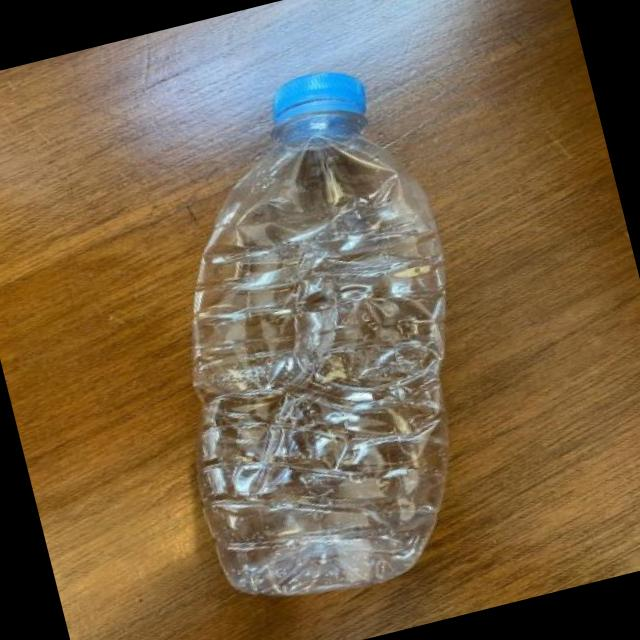BotolPlastik: (104, 50, 518, 620)
